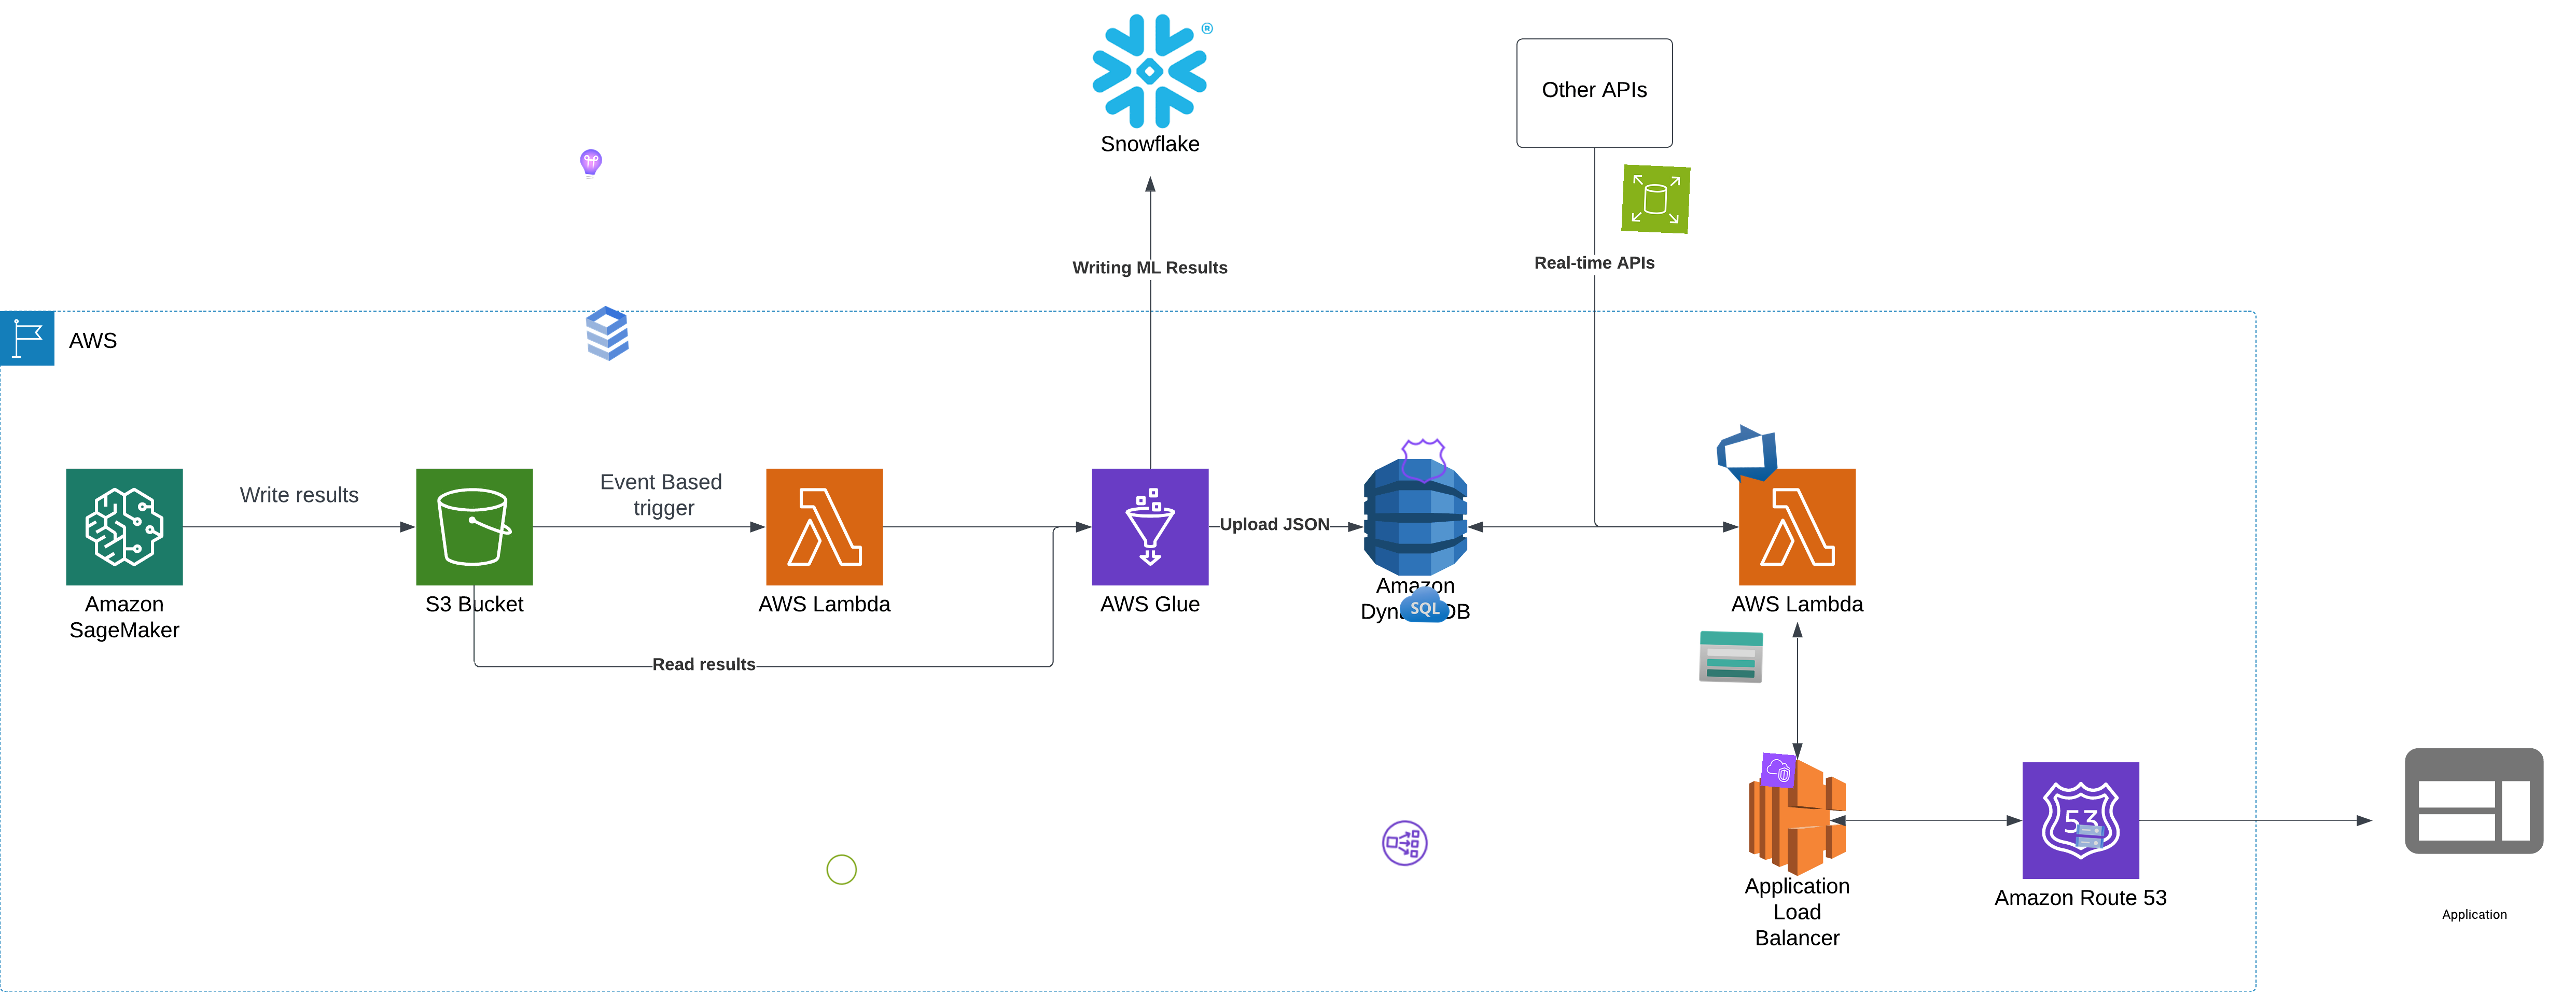aws_amazon_elastic_block_store: (1622, 164, 1690, 233)
aws_amazon_virtual_private_cloud: (1760, 752, 1797, 788)
aws_elastic_load_balancing_network_load_balancer: (1378, 816, 1433, 870)
aws_route_53_hosted_zone: (1398, 435, 1451, 486)
aws_simple_storage_service_object: (825, 852, 859, 887)
azure_application_insights: (573, 146, 610, 182)
azure_devops: (1710, 417, 1783, 489)
azure_sql: (1400, 580, 1451, 631)
azure_storage_accounts: (1697, 622, 1766, 691)
gcp_cloud_sql: (572, 297, 642, 370)
gcp_cloud_storage: (2072, 818, 2108, 854)
